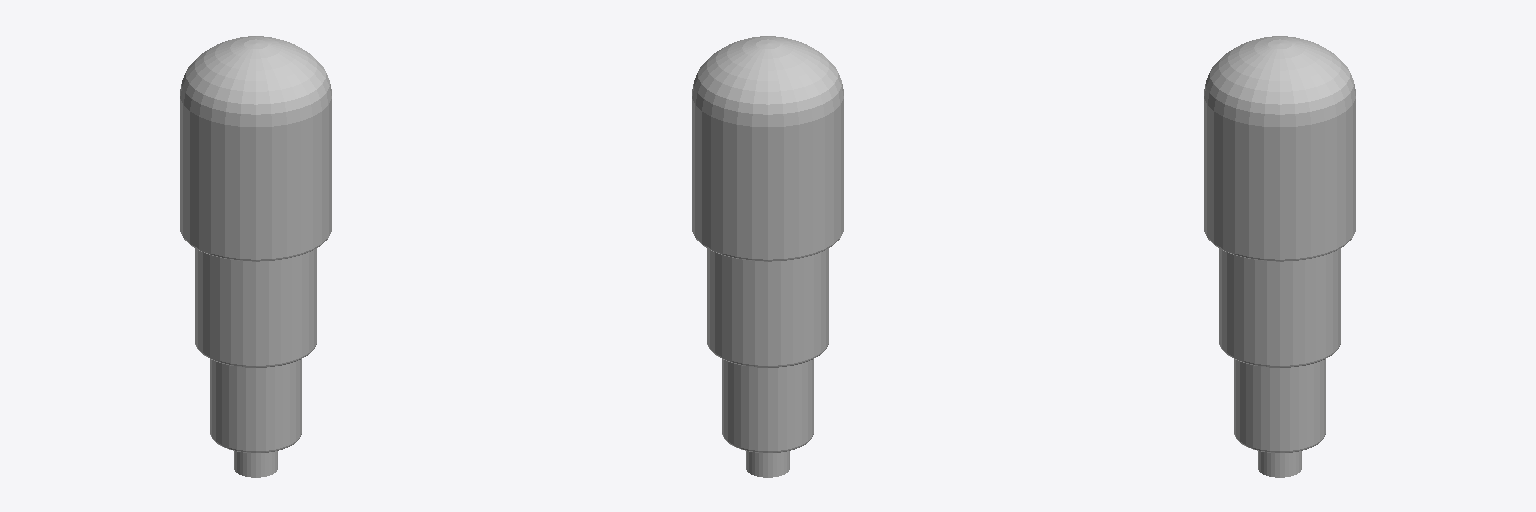
File: tall bush2.obj
3 views of the same model, side by side, from view 1: azimuth 30°, elevation 25°; view 2: azimuth 150°, elevation 25°; view 3: azimuth 270°, elevation 25° (orthographic).
Parts seen in each view (by area): view 1: pCylinder1; view 2: pCylinder1; view 3: pCylinder1.
Part boxes in pixels (bbox=[...]): pCylinder1: bbox=[180, 36, 331, 477]; pCylinder1: bbox=[692, 36, 843, 477]; pCylinder1: bbox=[1204, 36, 1355, 477].
Size of the model in its own units: 7.98 by 24.5 by 7.93.